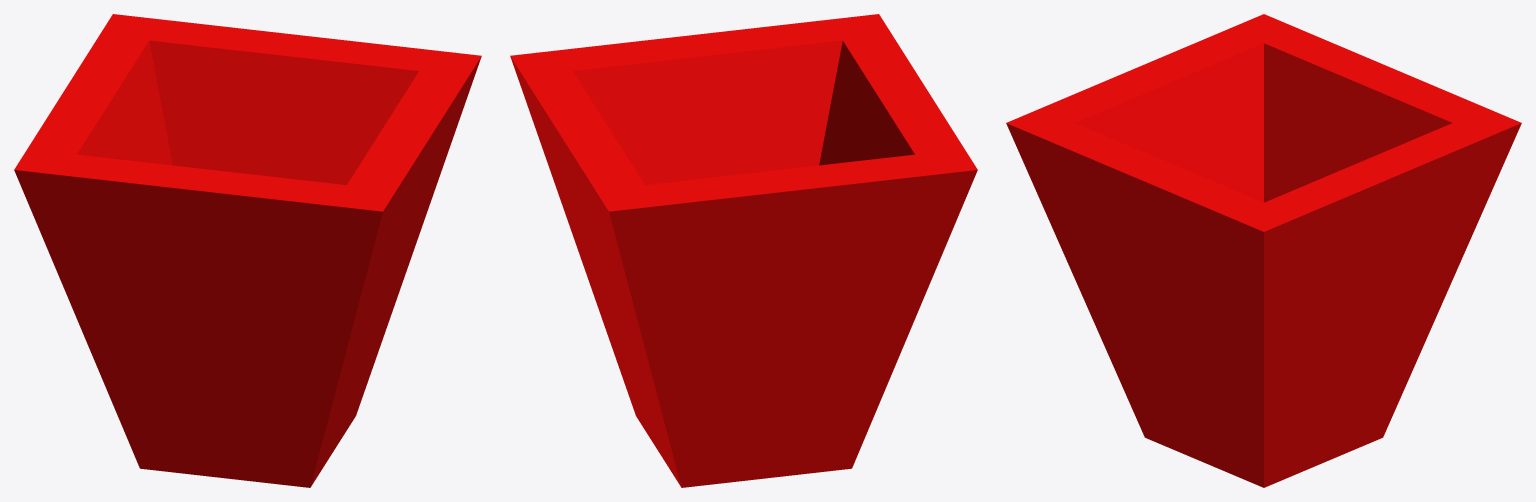
Rendered from MIDDLE PART.glb.
3 views of the same model, side by side, from view 1: azimuth 30°, elevation 25°; view 2: azimuth 150°, elevation 25°; view 3: azimuth 270°, elevation 25° (orthographic). The views are drawn at different scales.
Visible parts, largest first — view 1: columns; view 2: columns; view 3: columns.
Boxes of the visible parts, <box> form: columns: <box>14,14,481,487</box>; columns: <box>510,14,977,487</box>; columns: <box>1006,14,1521,487</box>.
Size of the model in its own units: 1.52 by 1.02 by 1.52.
